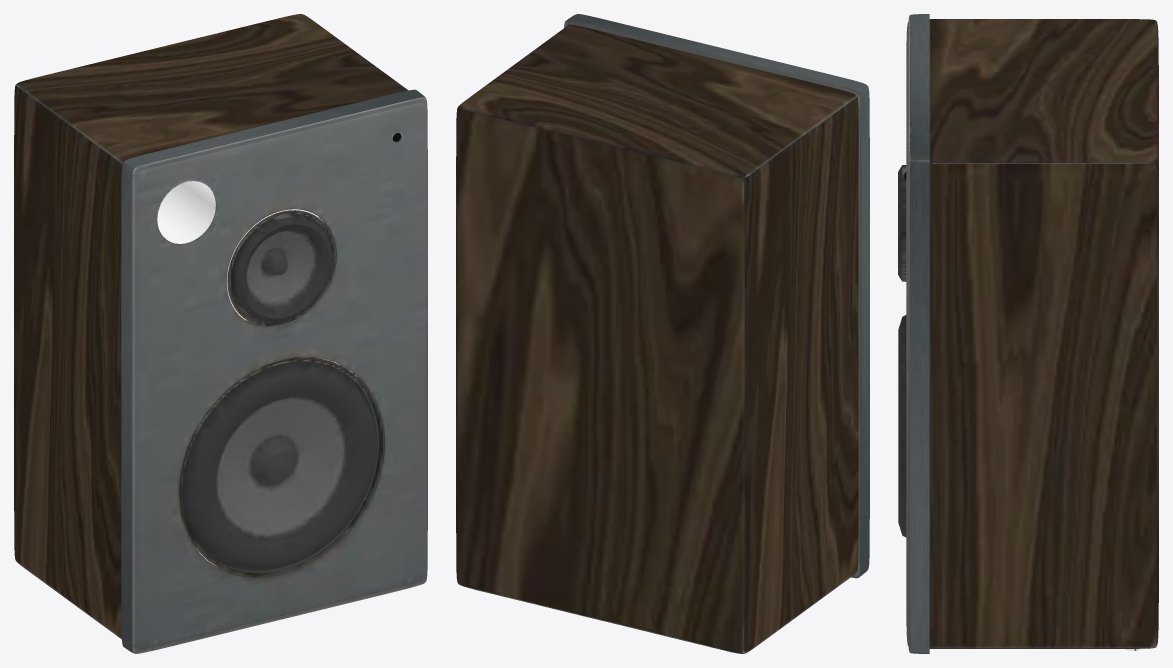
Rendered from OBJ-studio_monitors.glb.
3 views of the same model, side by side, from view 1: azimuth 30°, elevation 25°; view 2: azimuth 150°, elevation 25°; view 3: azimuth 270°, elevation 25° (orthographic).
Visible parts, largest first — view 1: Object_2; view 2: Object_2; view 3: Object_2.
Part boxes in pixels (x1,y1,x2,y2): Object_2: [14, 14, 427, 653]; Object_2: [456, 14, 869, 653]; Object_2: [898, 14, 1158, 653].
Size of the model in its own units: 0.1845 by 0.29 by 0.1375.
1 material, 1 textured.
